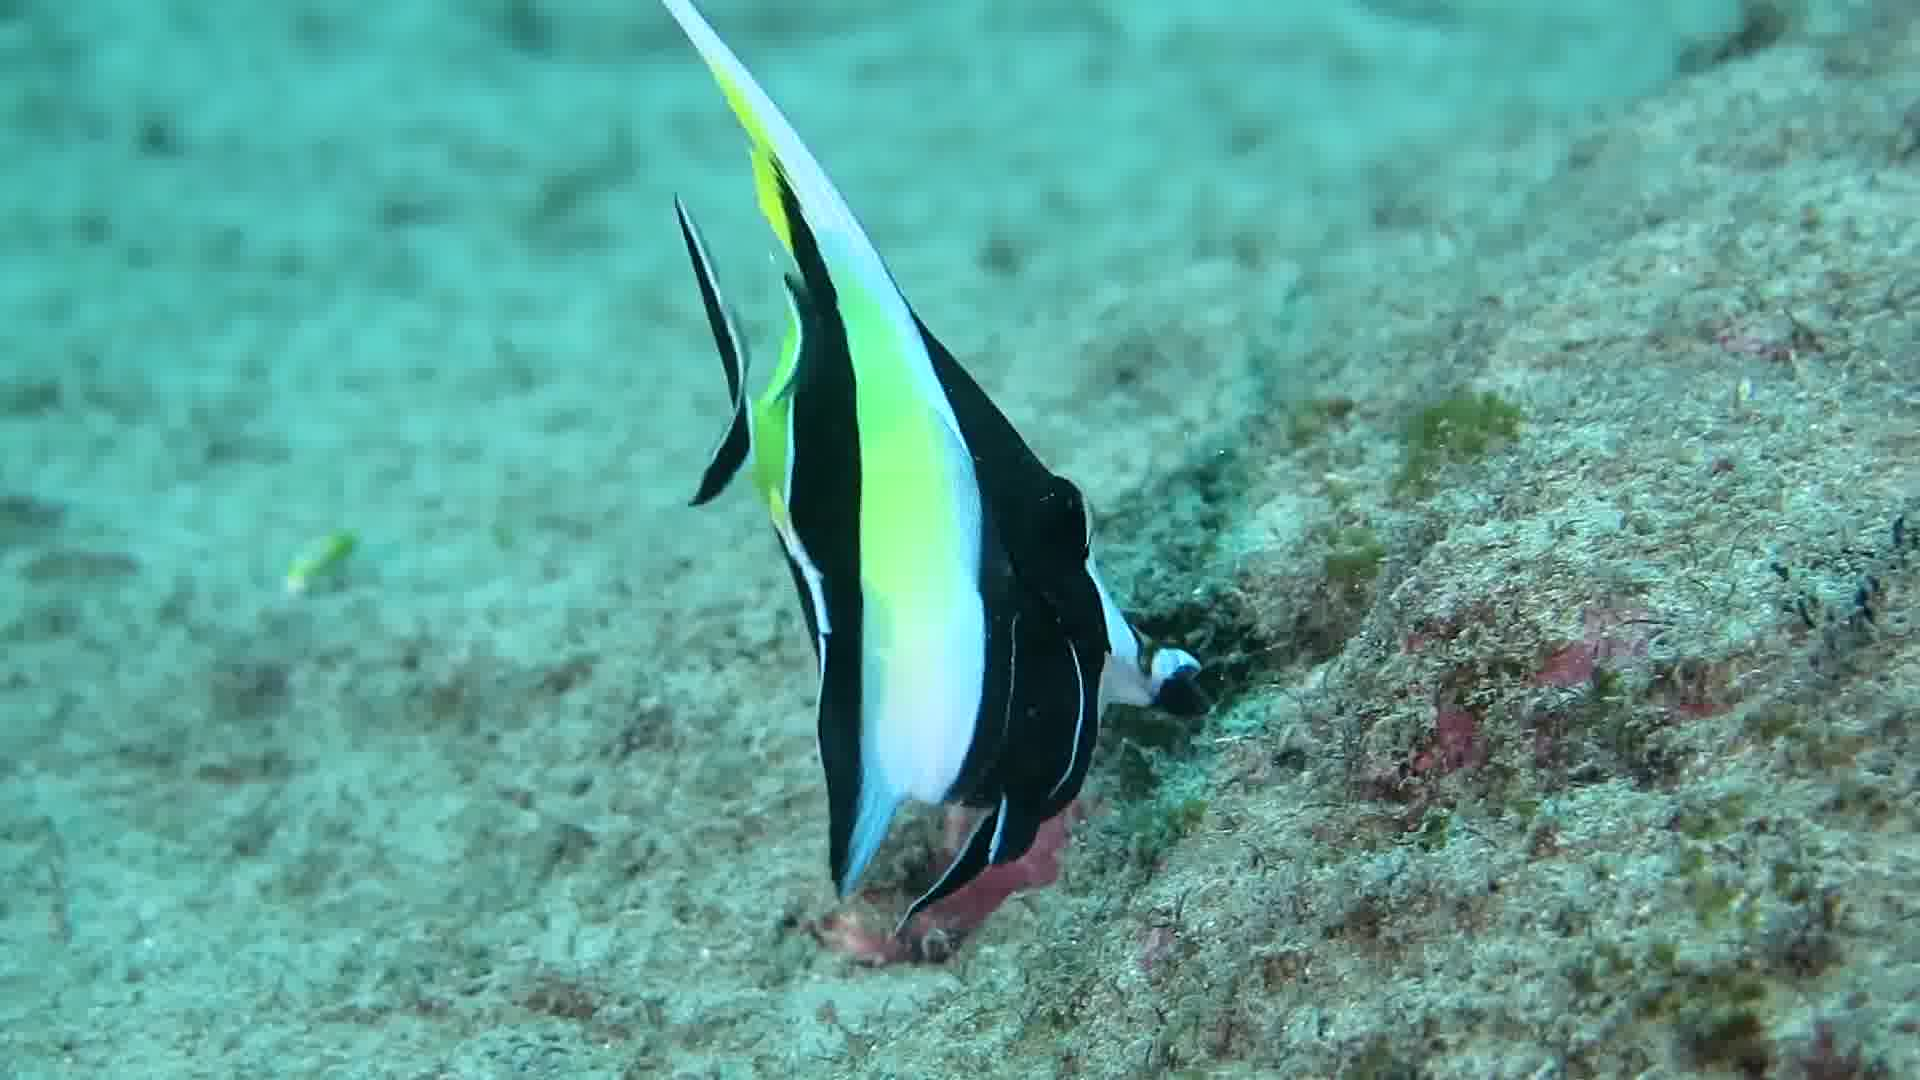Zanclus cornutus: (524, 162, 1433, 984)
